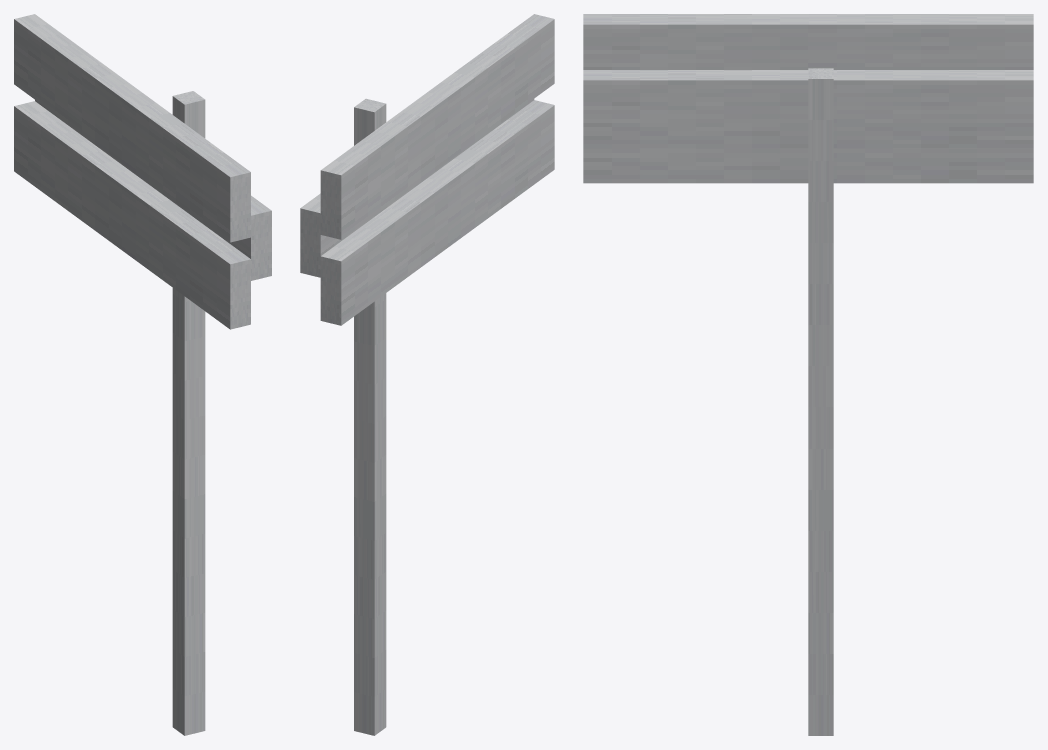
The model's file is guardrail_central.obj.
3 renders of one model, left to right at view 1: azimuth 30°, elevation 25°; view 2: azimuth 150°, elevation 25°; view 3: azimuth 270°, elevation 25°, orthographic. The views are drawn at different scales.
Parts seen in each view (by area): view 1: cube; view 2: cube; view 3: cube.
Boxes of the visible parts, bbox=[...] form: cube: bbox=[14, 14, 271, 735]; cube: bbox=[300, 14, 554, 735]; cube: bbox=[583, 14, 1033, 735].
Size of the model in its own units: 0.25 by 1.88 by 1.12.
1 material, 1 textured.
